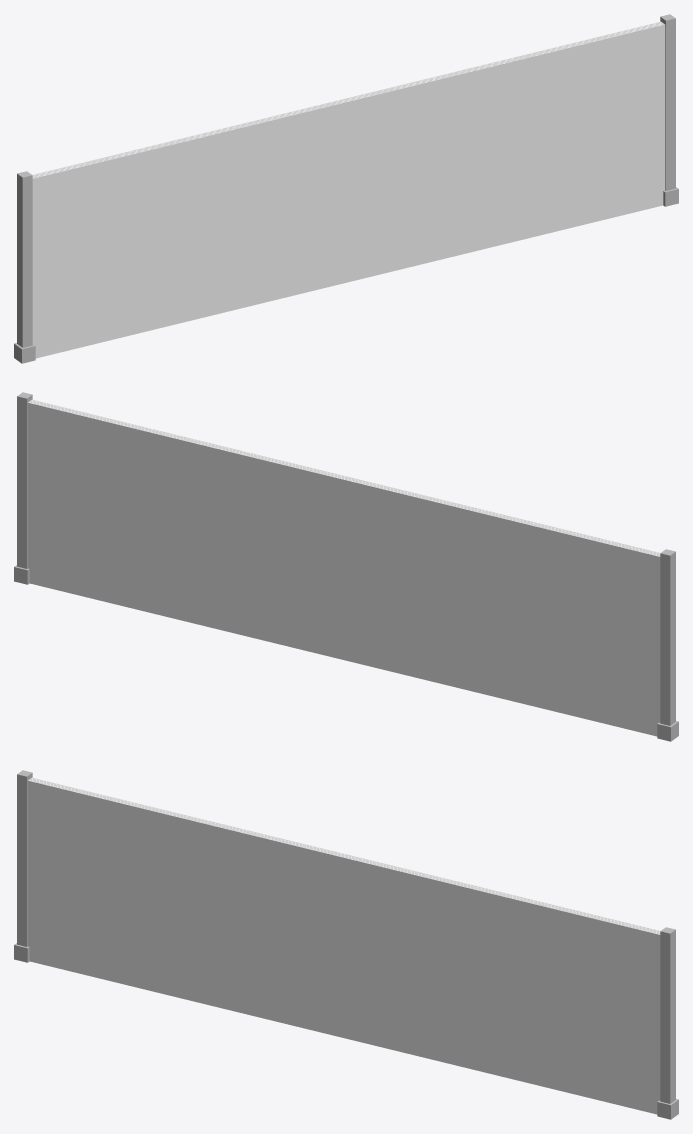
Rendered from SM_Floor_RoadPart_08.fbx.
The picture shows the model from 3 angles, top to bottom: view 1: azimuth 30°, elevation 25°; view 2: azimuth 150°, elevation 25°; view 3: azimuth 330°, elevation 25°; orthographic projection.
Visible parts, largest first — view 1: SM_Floor_RoadPart_08; view 2: SM_Floor_RoadPart_08; view 3: SM_Floor_RoadPart_08.
Part boxes in pixels (<box>): SM_Floor_RoadPart_08: <box>14,14,678,363</box>; SM_Floor_RoadPart_08: <box>14,392,678,741</box>; SM_Floor_RoadPart_08: <box>14,770,678,1119</box>.
Size of the model in its own units: 511 by 137 by 10.75.
